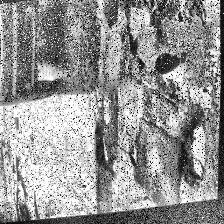pothole: (176, 119, 214, 188), (151, 53, 191, 103), (92, 126, 116, 172), (93, 0, 123, 32), (184, 0, 211, 32)
